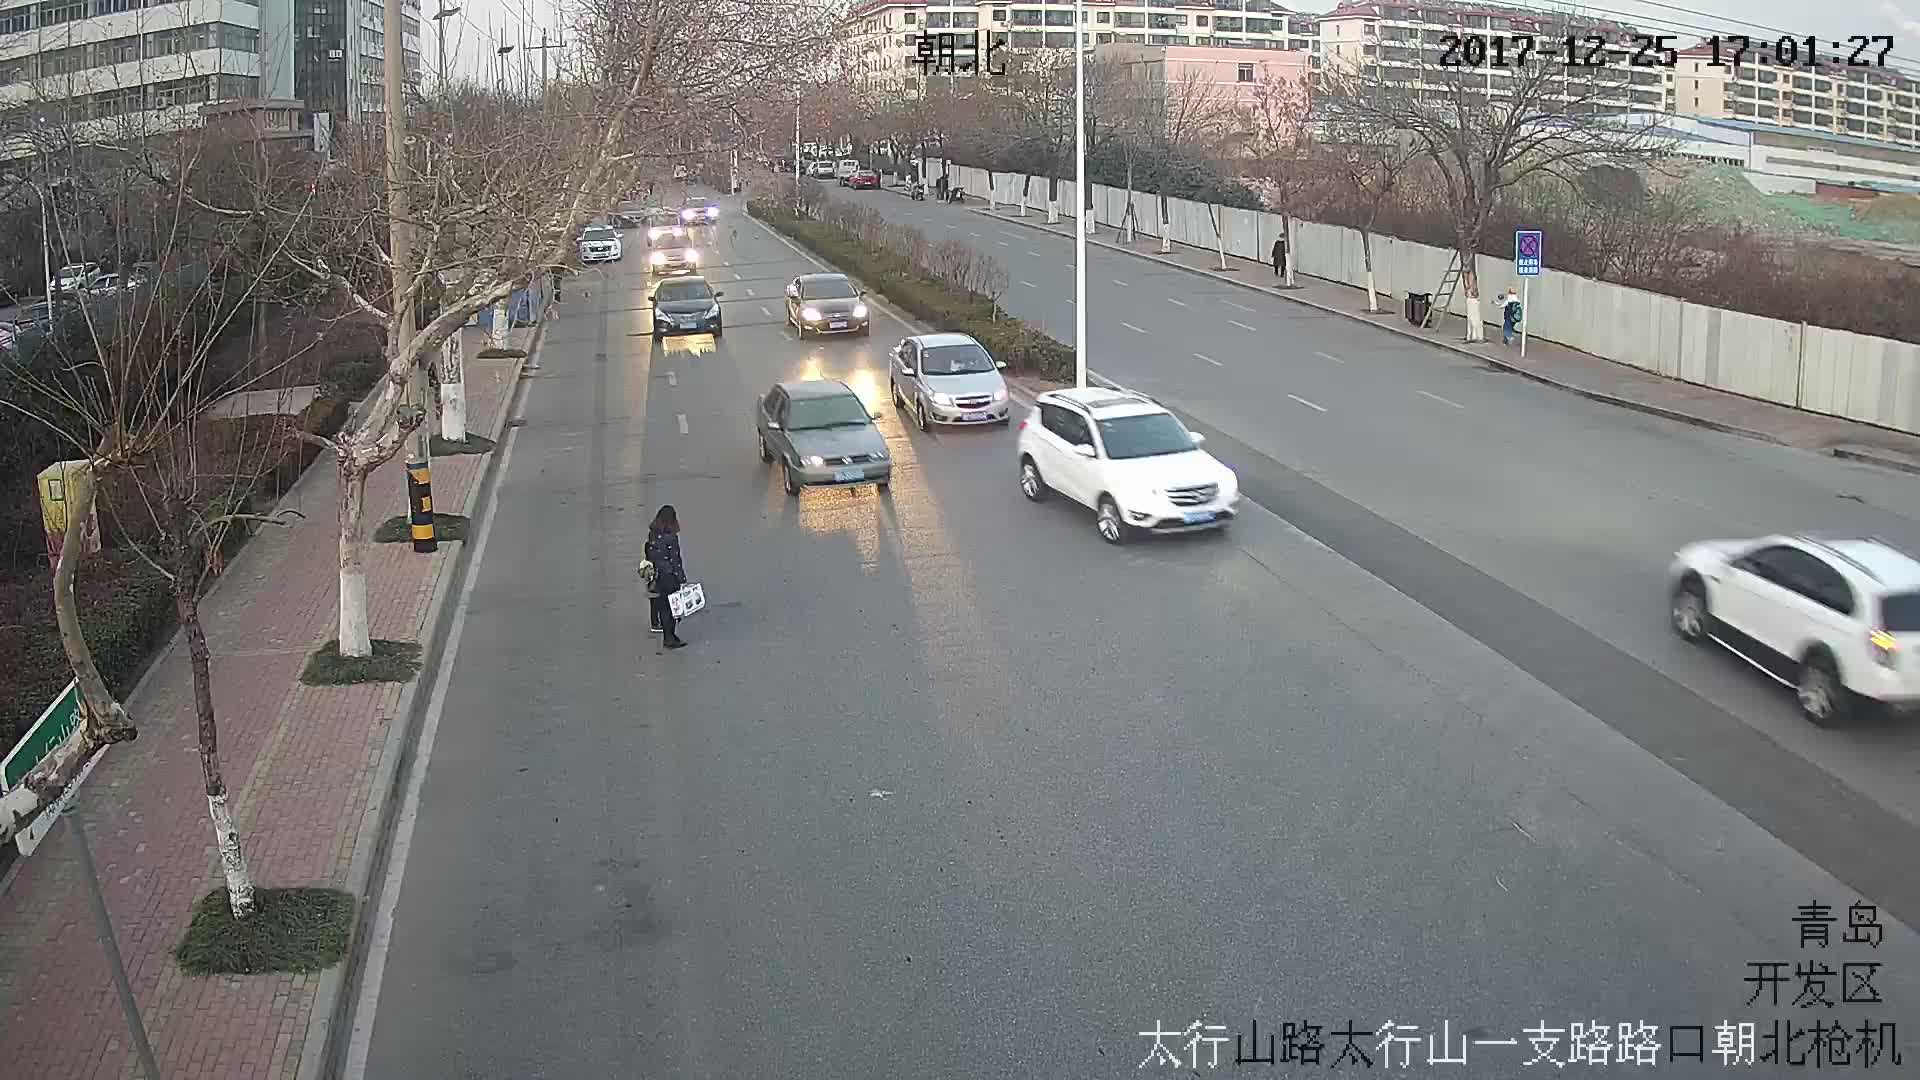car: (1670, 534, 1920, 718), (1017, 385, 1246, 542), (752, 380, 896, 494), (887, 332, 1013, 430), (787, 273, 873, 335), (645, 277, 727, 342), (575, 224, 623, 260)
person: (641, 505, 702, 652), (1496, 287, 1520, 344), (1267, 232, 1288, 281)
